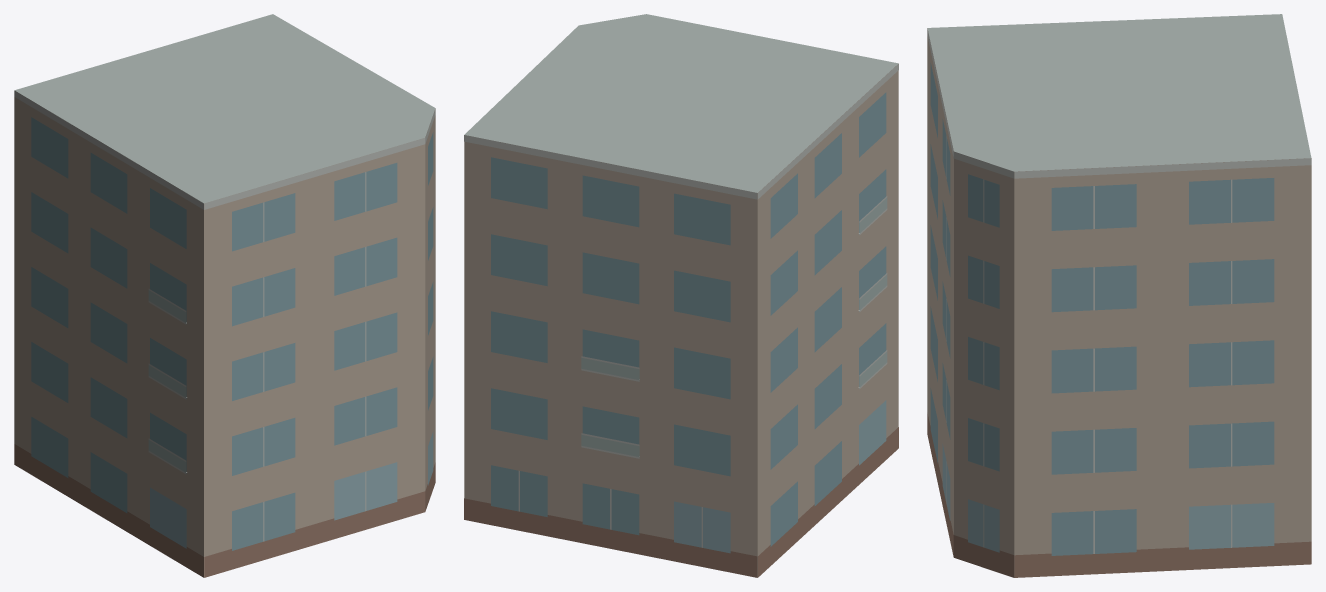
File: survey-upis-32873787.glb
3 renders of one model, left to right at view 1: azimuth 30°, elevation 25°; view 2: azimuth 150°, elevation 25°; view 3: azimuth 270°, elevation 25°, orthographic. The views are drawn at different scales.
Visible parts, largest first — view 1: survey-upis-32873787.tmp; view 2: survey-upis-32873787.tmp; view 3: survey-upis-32873787.tmp.
Part boxes in pixels (x1,y1,x2,y2): survey-upis-32873787.tmp: [14, 14, 435, 577]; survey-upis-32873787.tmp: [464, 14, 898, 577]; survey-upis-32873787.tmp: [927, 14, 1311, 577].
Size of the model in its own units: 11.66 by 14 by 12.01.
